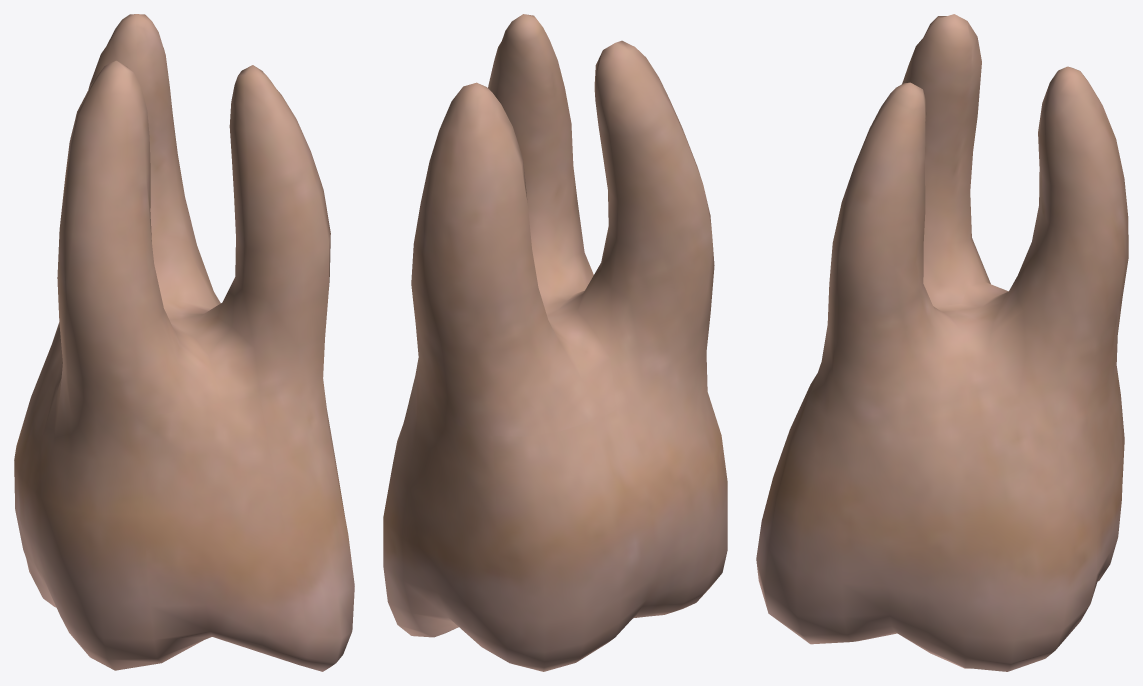
The picture shows the model from 3 angles, left to right: view 1: azimuth 30°, elevation 25°; view 2: azimuth 150°, elevation 25°; view 3: azimuth 270°, elevation 25°; orthographic projection. The views are drawn at different scales.
Parts seen in each view (by area): view 1: t_26; view 2: t_26; view 3: t_26.
Boxes of the visible parts, bbox=[...] form: t_26: bbox=[14, 14, 354, 671]; t_26: bbox=[383, 14, 727, 671]; t_26: bbox=[756, 14, 1128, 671].
Size of the model in its own units: 0.0894 by 0.1882 by 0.1094.
1 material, 1 textured.
